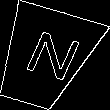N_S: (11, 28, 78, 89)
